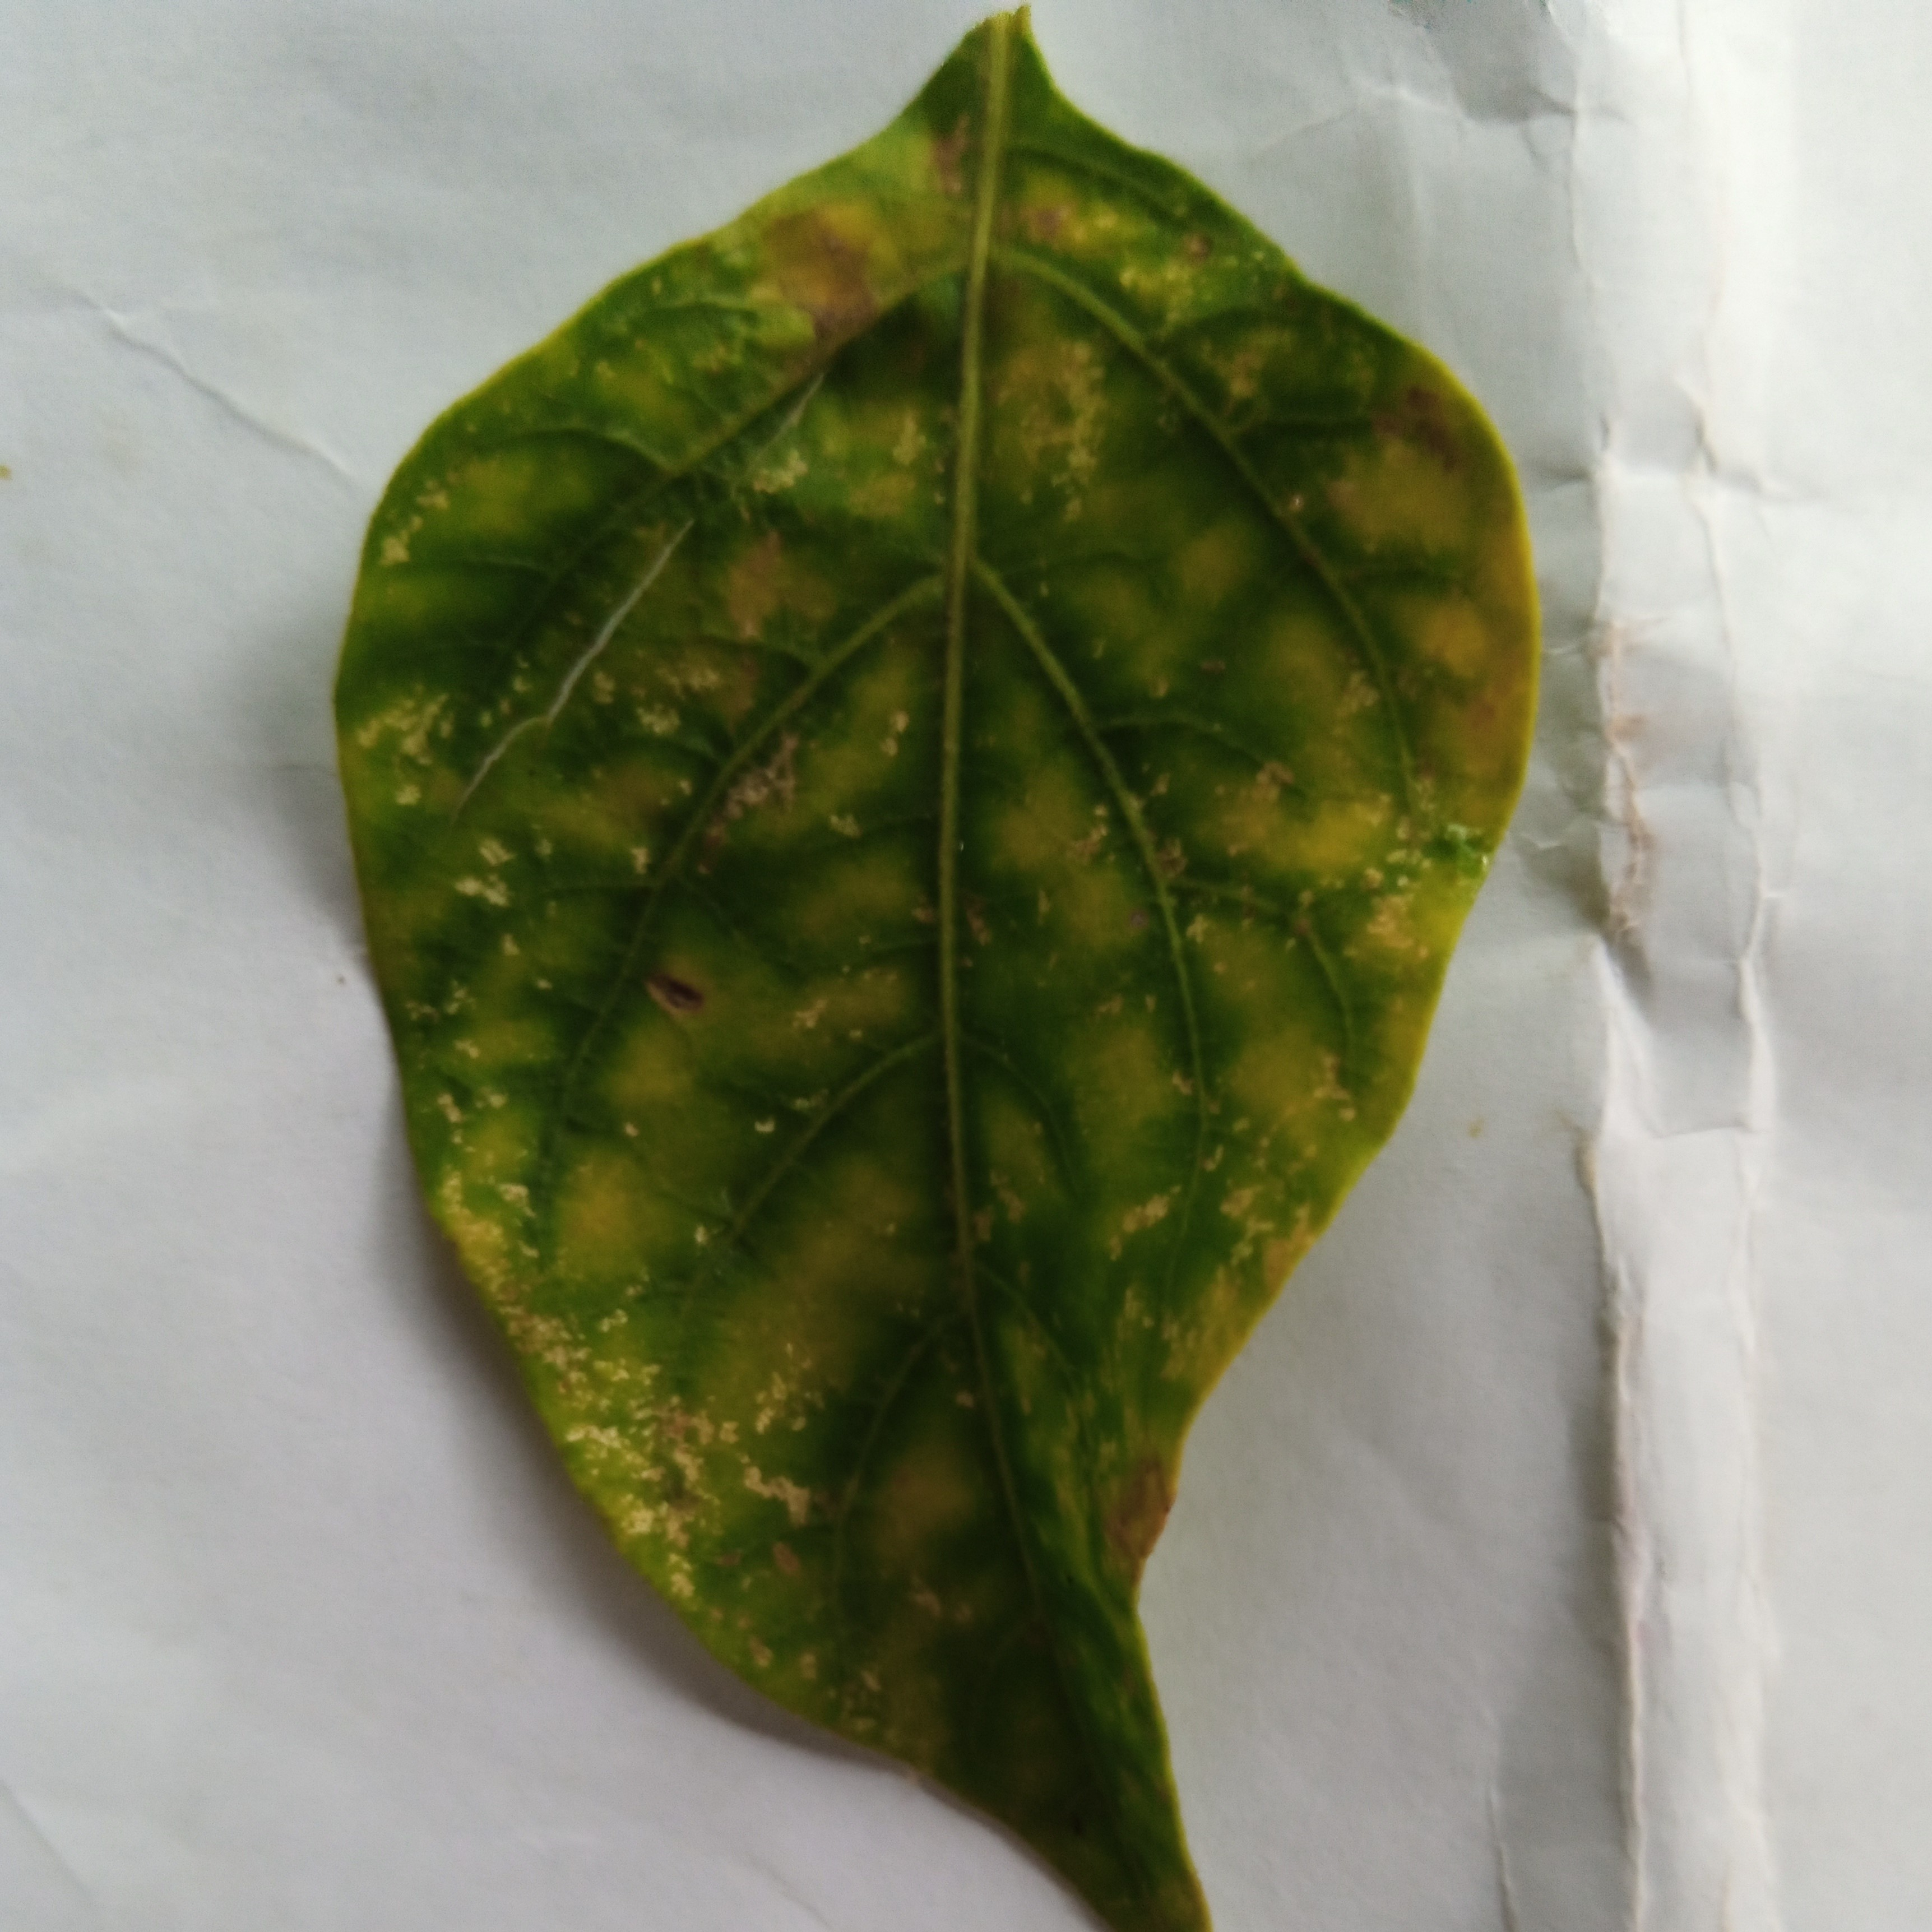Leaf: (186, 46, 1621, 1932)
